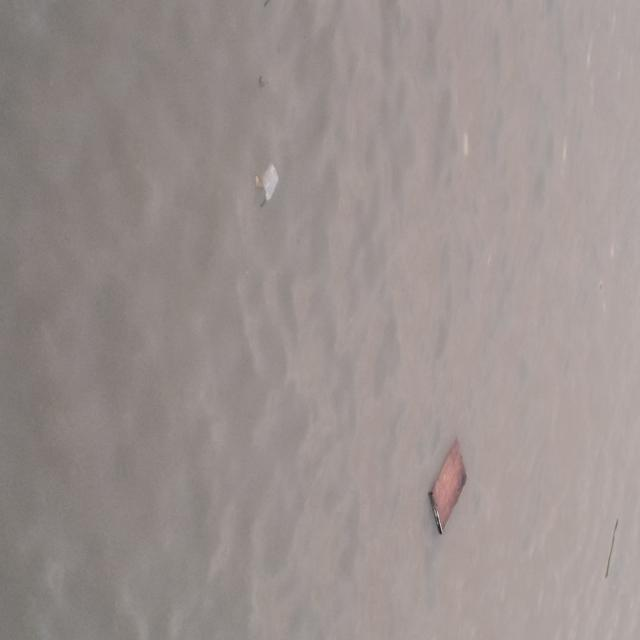Organic Debris: (428, 434, 469, 537), (604, 516, 620, 580), (254, 175, 266, 208), (259, 74, 273, 90)
Plastic: (262, 163, 280, 202), (560, 130, 572, 170), (461, 131, 471, 159)
